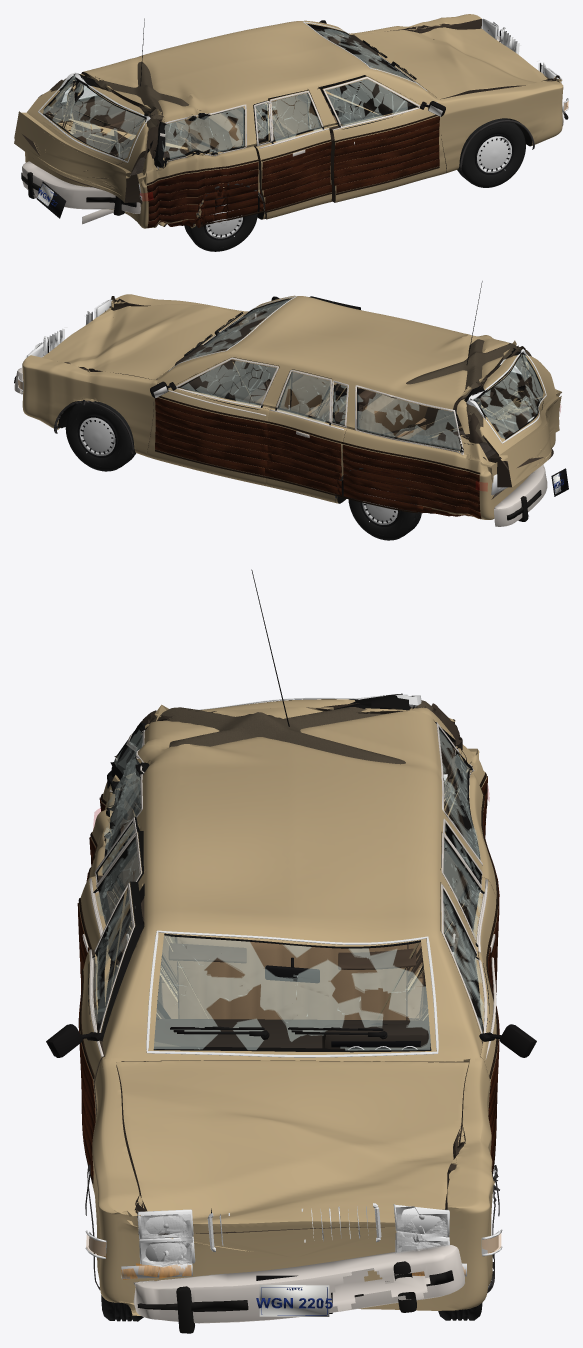
File: wagon82_rear_corner_R_d1_lod1.glb
The picture shows the model from 3 angles, top to bottom: view 1: azimuth 30°, elevation 25°; view 2: azimuth 150°, elevation 25°; view 3: azimuth 270°, elevation 25°; orthographic projection. The views are drawn at different scales.
Visible parts, largest first — view 1: Body, Hood, Tailgate, Trim, Interior, Trim_FR, Trim_RR, Glass, Glass_Tailgate, Door_FR, Wheel_FR_mesh, Bumper_R (+5 smaller); view 2: Body, Hood, Trim, Interior, Trim_FL, Tailgate, Trim_RL, Glass, Wheel_FL_mesh, Door_FL, Glass_Tailgate, Glass_FL (+6 smaller); view 3: Body, Hood, Interior, Glass, Bumper_F, Ends, Door_FR, Trim, Trim_FR, Tailgate, Lamps_Head, Trim_FL (+9 smaller).
Part boxes in pixels (<box>): Body: <box>25,14,563,228</box>; Hood: <box>351,27,548,99</box>; Tailgate: <box>14,74,159,204</box>; Trim: <box>64,18,534,227</box>; Interior: <box>72,35,412,175</box>; Trim_FR: <box>323,77,445,194</box>; Trim_RR: <box>254,91,332,212</box>; Glass: <box>61,21,427,167</box>; Glass_Tailgate: <box>38,72,150,162</box>; Door_FR: <box>320,75,446,202</box>; Wheel_FR_mesh: <box>457,118,525,187</box>; Bumper_R: <box>21,161,140,215</box>; Body: <box>22,294,561,519</box>; Hood: <box>42,304,246,379</box>; Trim: <box>54,281,531,518</box>; Interior: <box>175,319,530,499</box>; Trim_FL: <box>150,357,278,477</box>; Tailgate: <box>456,346,561,487</box>; Trim_RL: <box>264,370,348,495</box>; Glass: <box>167,296,532,452</box>; Wheel_FL_mesh: <box>65,401,135,471</box>; Door_FL: <box>147,357,279,485</box>; Glass_Tailgate: <box>466,349,546,443</box>; Glass_FL: <box>177,357,276,409</box>; Body: <box>89,704,496,1315</box>; Hood: <box>116,1060,468,1233</box>; Interior: <box>154,936,430,1049</box>; Glass: <box>104,722,480,1057</box>; Bumper_F: <box>133,1245,464,1333</box>; Ends: <box>85,774,502,1316</box>; Door_FR: <box>80,881,144,1194</box>; Trim: <box>85,569,499,1292</box>; Trim_FR: <box>46,883,134,1183</box>; Tailgate: <box>135,693,459,839</box>; Lamps_Head: <box>139,1214,448,1267</box>; Trim_FL: <box>441,883,536,1174</box>.
Size of the model in its own units: 4.98 by 2.12 by 2.14.
35 materials, 6 textured.
